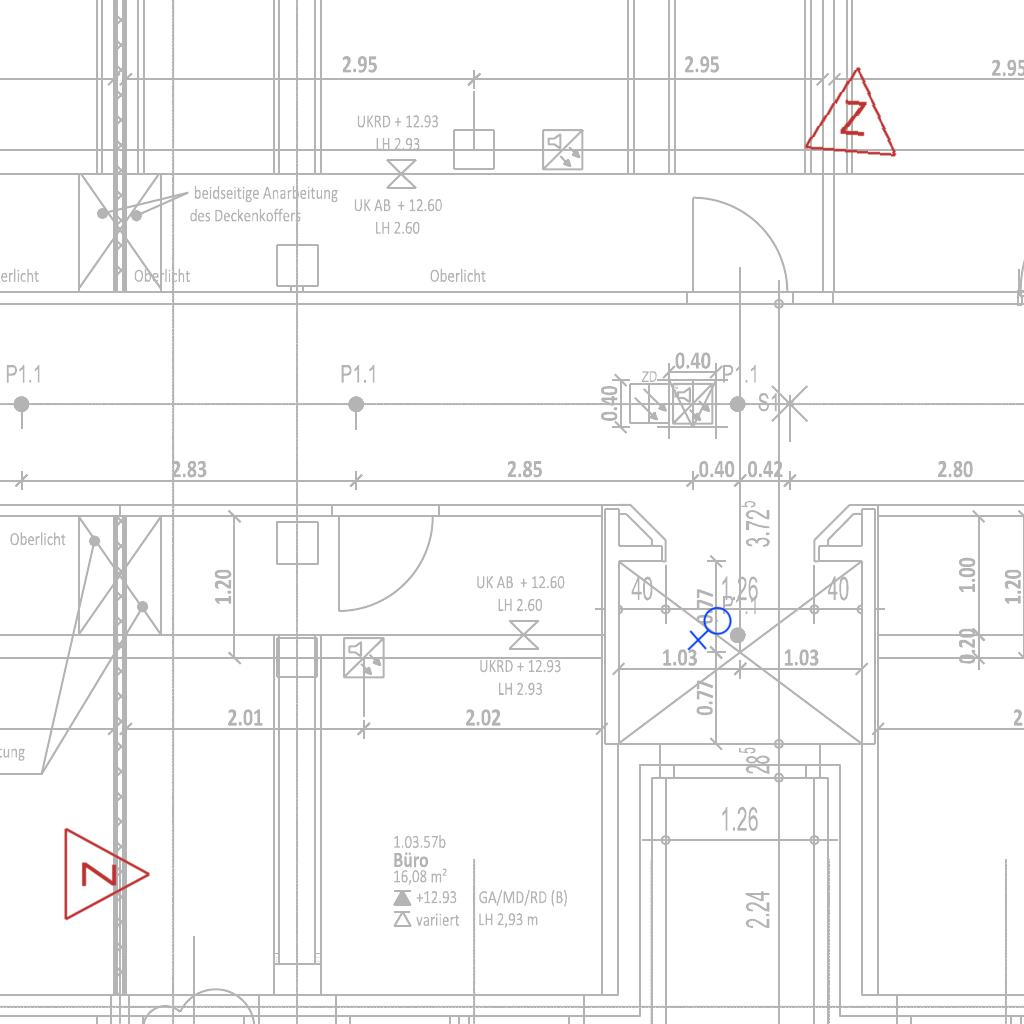Elektroanschluss_allgemein_230V_Geraeteanschlussdose_230V: (687, 606, 736, 653)
Zimmersignalleuchte: (799, 55, 907, 165), (57, 824, 157, 922)
